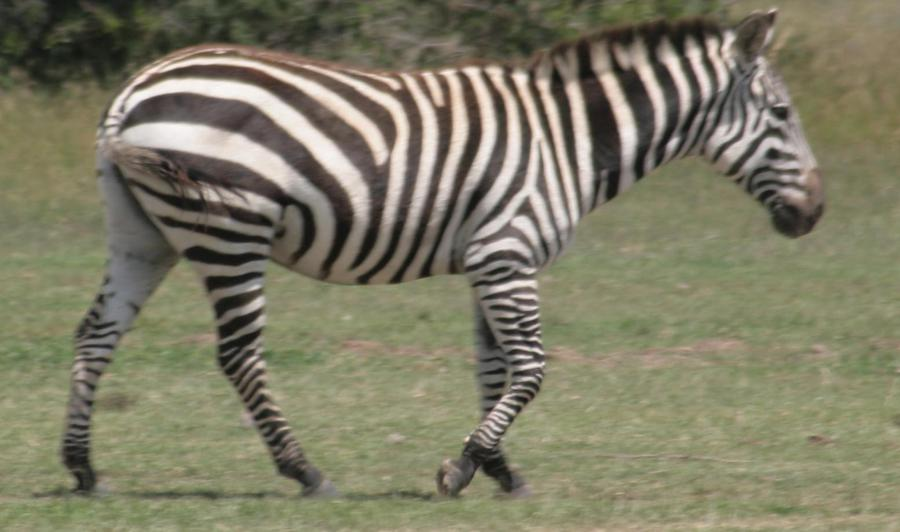zebra_plains: (119, 6, 599, 315)
